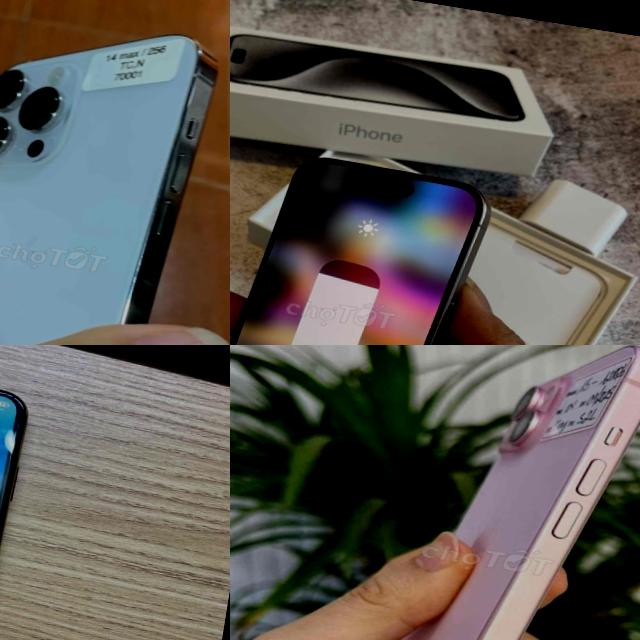gen_12_13: (271, 345, 640, 640)
gen_14: (0, 0, 223, 345)
gen_15: (230, 136, 504, 345)
gen_x_xs: (0, 345, 46, 640)
